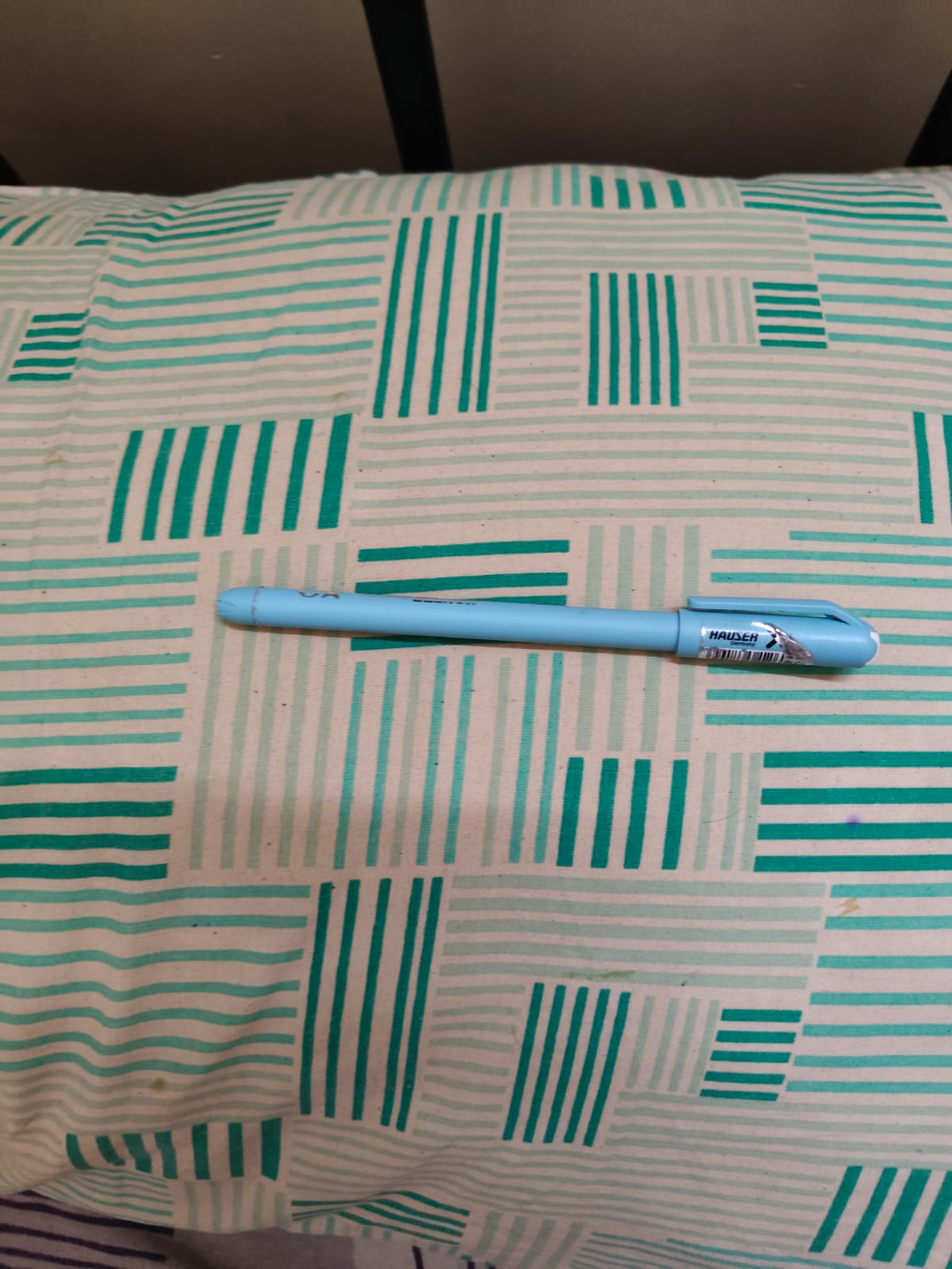pen: (198, 540, 908, 693)
